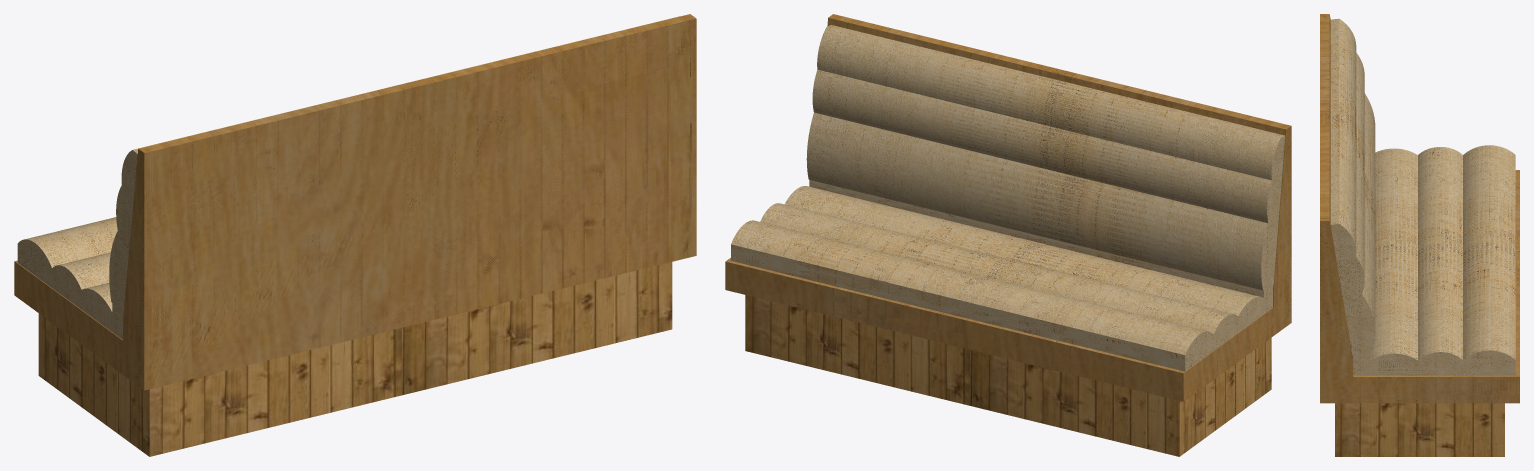
File: bench4.dae
3 renders of one model, left to right at view 1: azimuth 30°, elevation 25°; view 2: azimuth 150°, elevation 25°; view 3: azimuth 270°, elevation 25°, orthographic. The views are drawn at different scales.
Visible parts, largest first — view 1: SketchUp (×4); view 2: SketchUp (×4); view 3: SketchUp (×4).
Boxes of the visible parts, <box> form: SketchUp (×4): <box>14,14,696,456</box>; SketchUp (×4): <box>725,14,1291,456</box>; SketchUp (×4): <box>1320,14,1519,456</box>.
Size of the model in its own units: 76.57 by 31.22 by 41.66.
3 materials, 3 textured.
